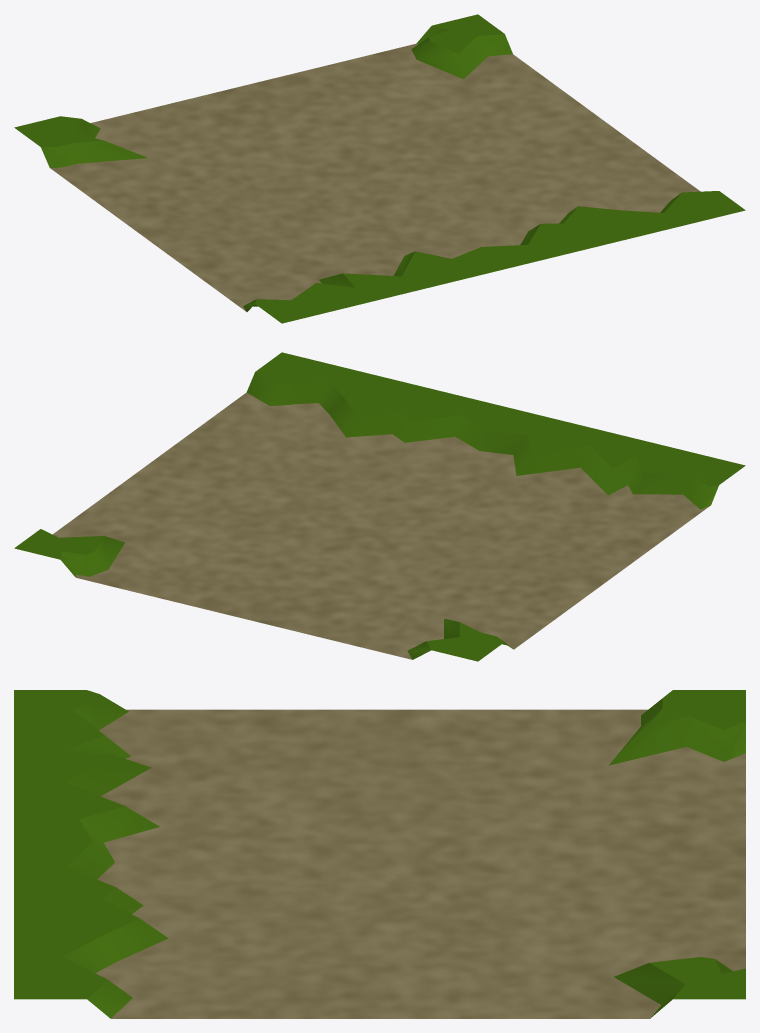
The model's file is tile3.fbx.
3 views of the same model, one above another, from view 1: azimuth 30°, elevation 25°; view 2: azimuth 150°, elevation 25°; view 3: azimuth 270°, elevation 25° (orthographic). The views are drawn at different scales.
Parts seen in each view (by area): view 1: Plane.002; view 2: Plane.002; view 3: Plane.002.
Boxes of the visible parts, bbox=[...] form: Plane.002: bbox=[14, 14, 745, 323]; Plane.002: bbox=[14, 352, 745, 661]; Plane.002: bbox=[14, 690, 745, 1018].
Size of the model in its own units: 100 by 2.94 by 100.
